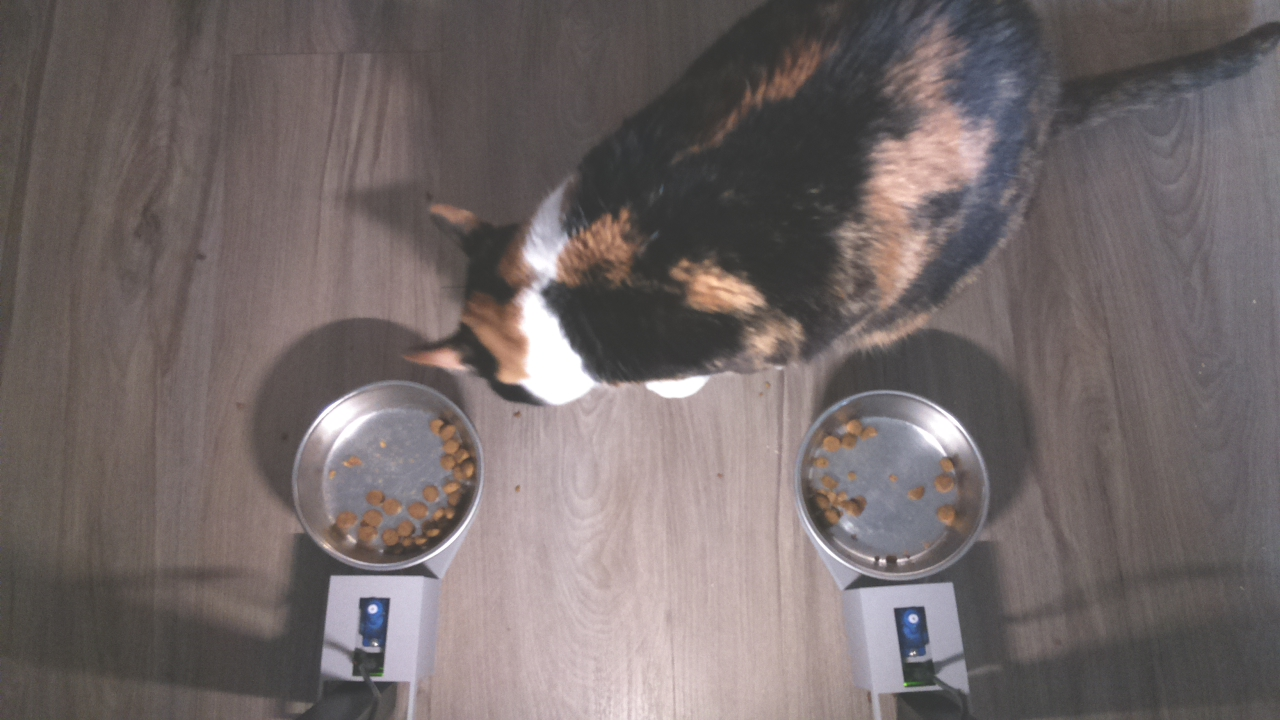bella: (404, 187, 670, 412)
open_bowl: (791, 386, 999, 585), (289, 377, 490, 577)
